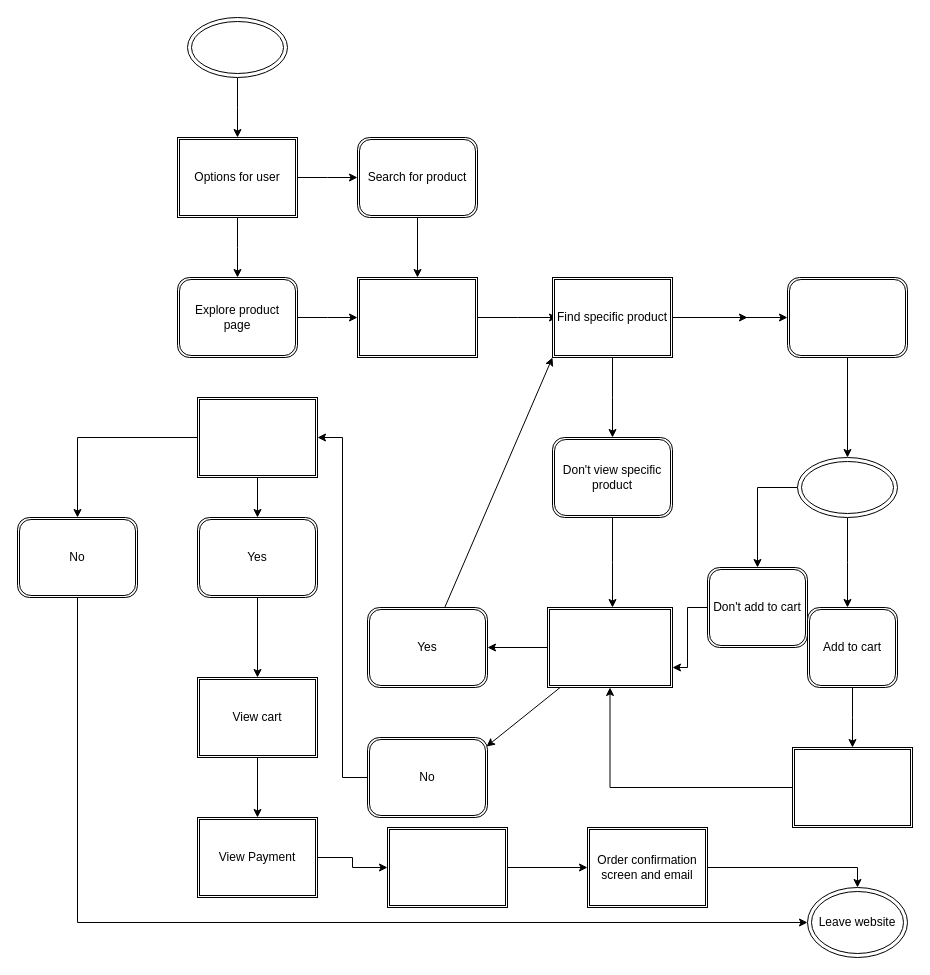
This 930x975 diagram has some shape labels left out. The shapes that lost their labels are listed below. From the top down, each one's centre as x and y in pixels, then its label:
point (237, 47): Enter website
point (417, 317): Look over product
point (847, 317): View specific product
point (257, 437): Checkout?
point (847, 487): Open product webpage
point (609, 647): Continue shopping?
point (852, 787): Added to cart confirmation
point (447, 867): Input Payment Information and Pay
